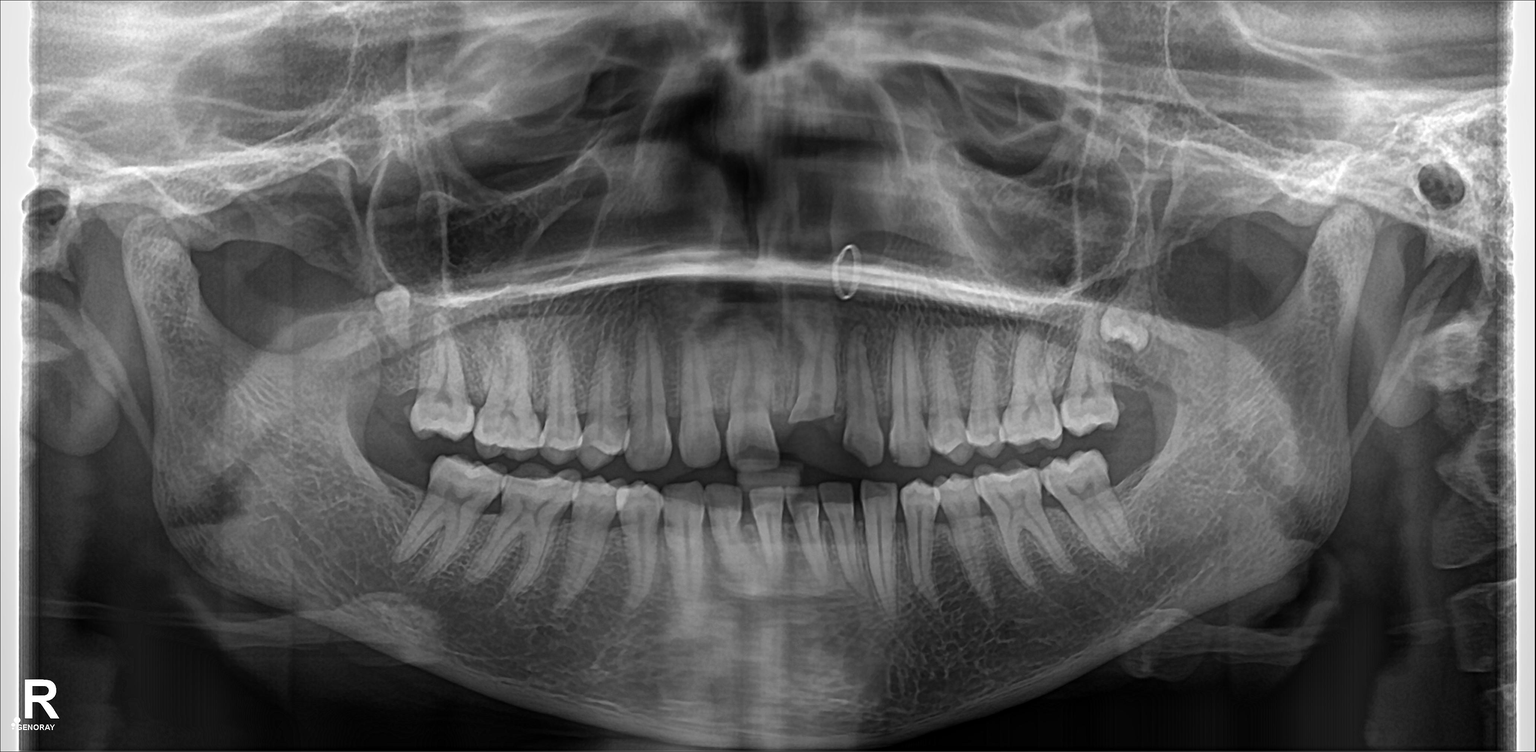Impacted Third Molar: (1104, 292, 1156, 364)
Missing Tooth: (363, 443, 429, 539), (1110, 449, 1167, 529), (372, 344, 417, 434)
Retained Root: (780, 329, 839, 460)
